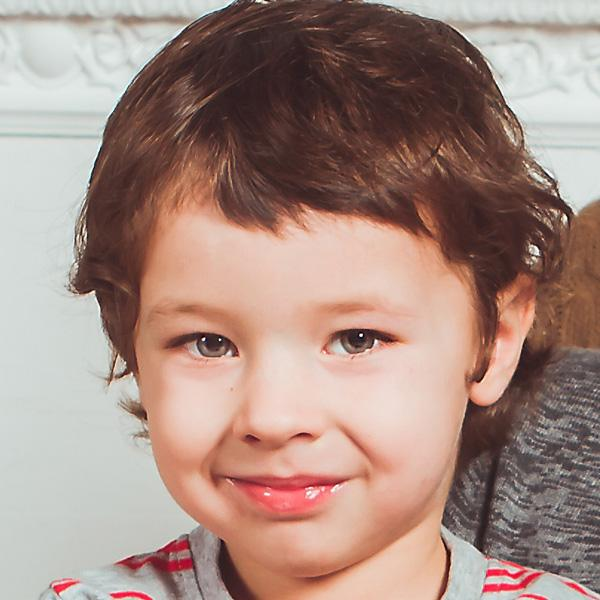Eyes: (309, 313, 404, 369), (155, 315, 245, 372)
